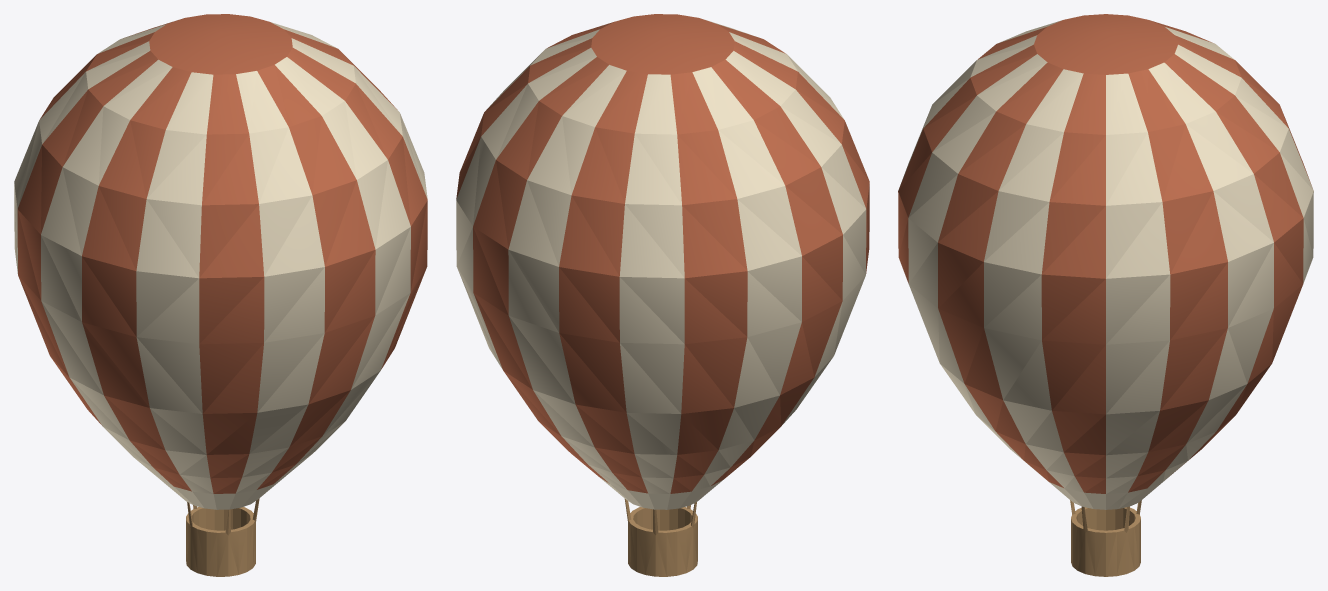
File: hot_air_balloon.glb
The picture shows the model from 3 angles, left to right: view 1: azimuth 30°, elevation 25°; view 2: azimuth 150°, elevation 25°; view 3: azimuth 270°, elevation 25°; orthographic projection.
Parts seen in each view (by area): view 1: hot_air_balloon; view 2: hot_air_balloon; view 3: hot_air_balloon.
Boxes of the visible parts, left/top/right/bottom form: hot_air_balloon: left=14, top=14, right=427, bottom=576; hot_air_balloon: left=456, top=14, right=869, bottom=576; hot_air_balloon: left=898, top=14, right=1313, bottom=576.
Size of the model in its own units: 12.81 by 18 by 12.81.
